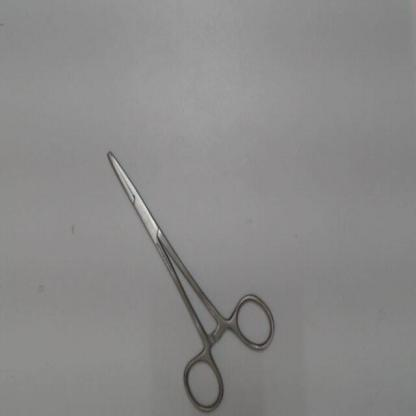Mayo Needle Holder: (97, 130, 285, 415)
